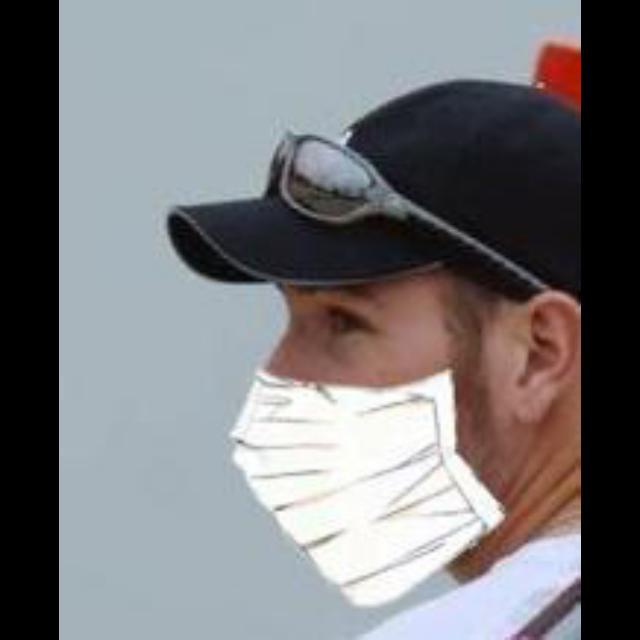suspicion: (186, 223, 530, 575)
